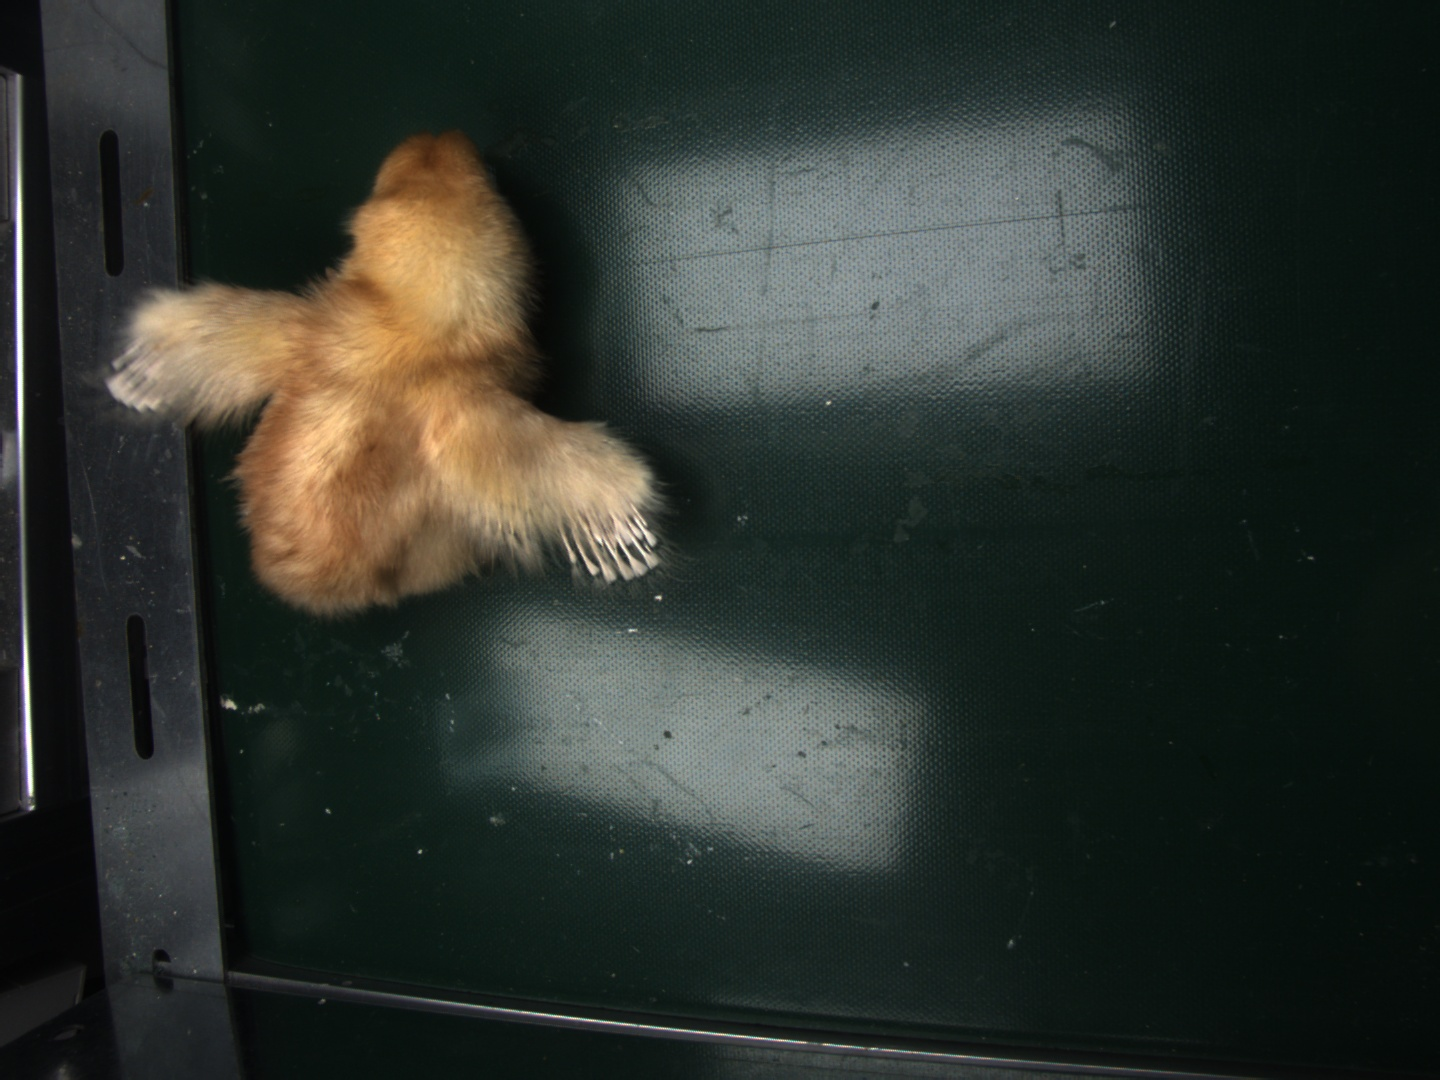female: (567, 506, 661, 583)
